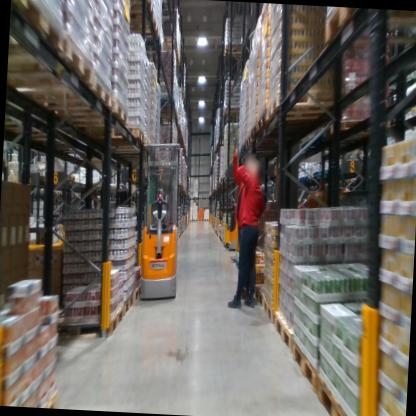pallet: (6, 40, 100, 106), (12, 67, 115, 113), (40, 91, 130, 134), (265, 85, 341, 133), (11, 0, 71, 57), (55, 300, 124, 348), (74, 121, 145, 156), (322, 113, 392, 148), (289, 335, 320, 397), (314, 371, 355, 416), (248, 117, 307, 147), (255, 107, 306, 138), (268, 306, 295, 354), (115, 10, 163, 30), (252, 275, 276, 311), (109, 291, 134, 321), (120, 0, 159, 17), (121, 24, 165, 39), (243, 132, 270, 154), (222, 39, 252, 57), (260, 293, 275, 327), (138, 38, 167, 54), (129, 279, 143, 307), (220, 104, 242, 119), (64, 171, 78, 182), (109, 183, 114, 191)
pallet_truck: (130, 137, 188, 307), (217, 159, 244, 249)
